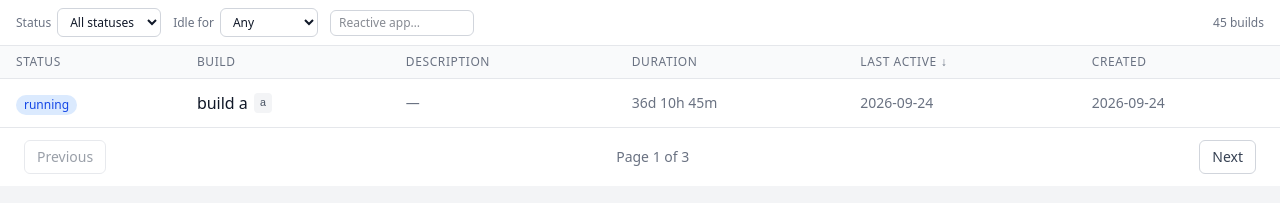
Test: BuildsList › returns to page 1 when a filter changes
Expected: the button "build a" is shown, [197,91,248,115]
Click the button "Next".
click(1228, 157)  # box [1199,140,1256,174]
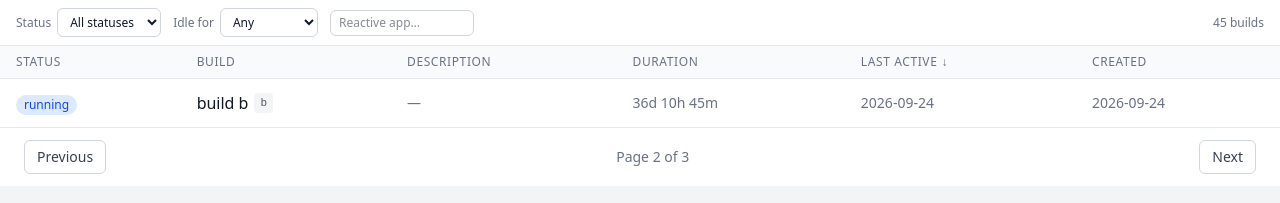
Expected: the button "build b" is shown, [197,91,248,115]
Select "Failed" in the dropdown named "Filter by build status" at (109,22), box [57,8,161,37]
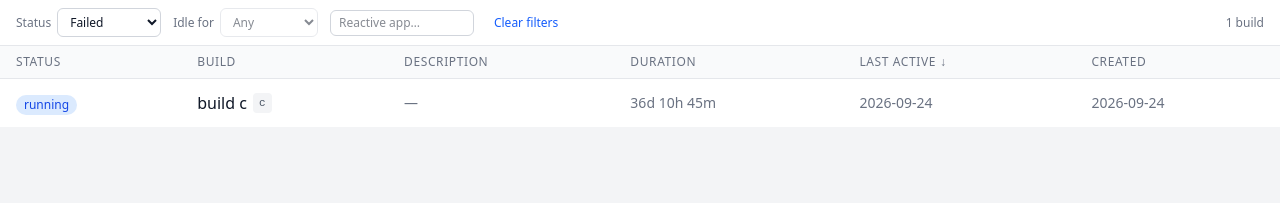
Expected: the button "build c" is shown, [197,91,247,115]
Expected: the text "Page " is gone
